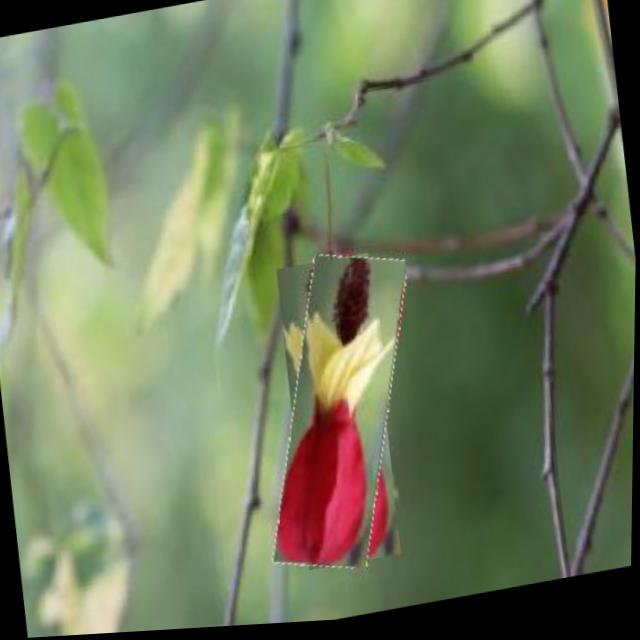Flower: (256, 249, 425, 583)
